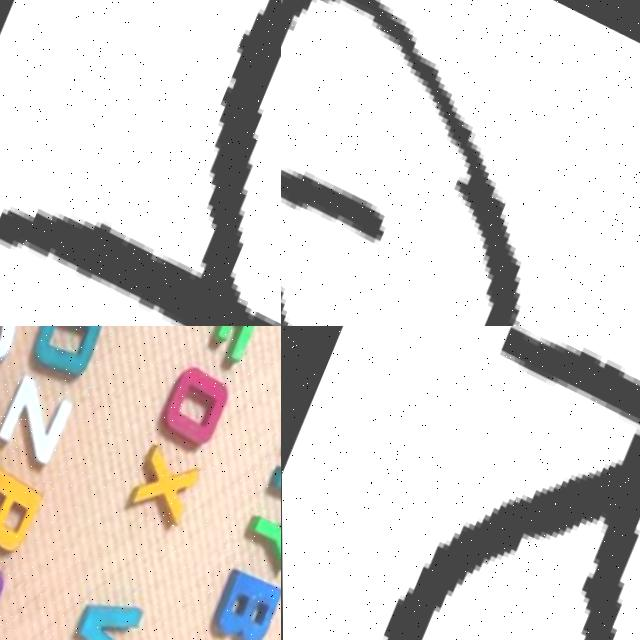B: (206, 552, 281, 640)
D: (25, 326, 107, 379)
F: (189, 326, 265, 358)
G: (0, 0, 281, 326)
K: (265, 405, 281, 502)
O: (161, 354, 231, 440)
Q: (281, 0, 639, 326)
R: (345, 326, 640, 640), (0, 455, 45, 557)
V: (66, 578, 143, 640)
X: (130, 433, 202, 517)
Y: (241, 485, 281, 562)
Z: (0, 368, 72, 466)
